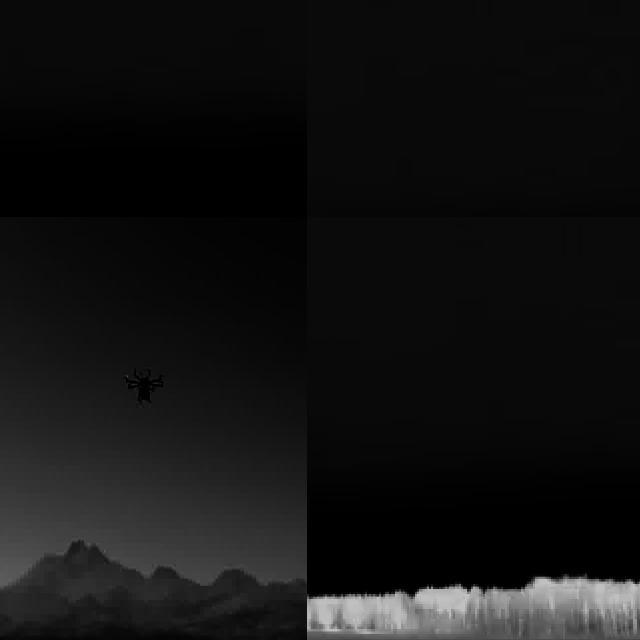drone: (121, 360, 164, 410)
